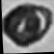correct: (0, 1, 54, 51)
